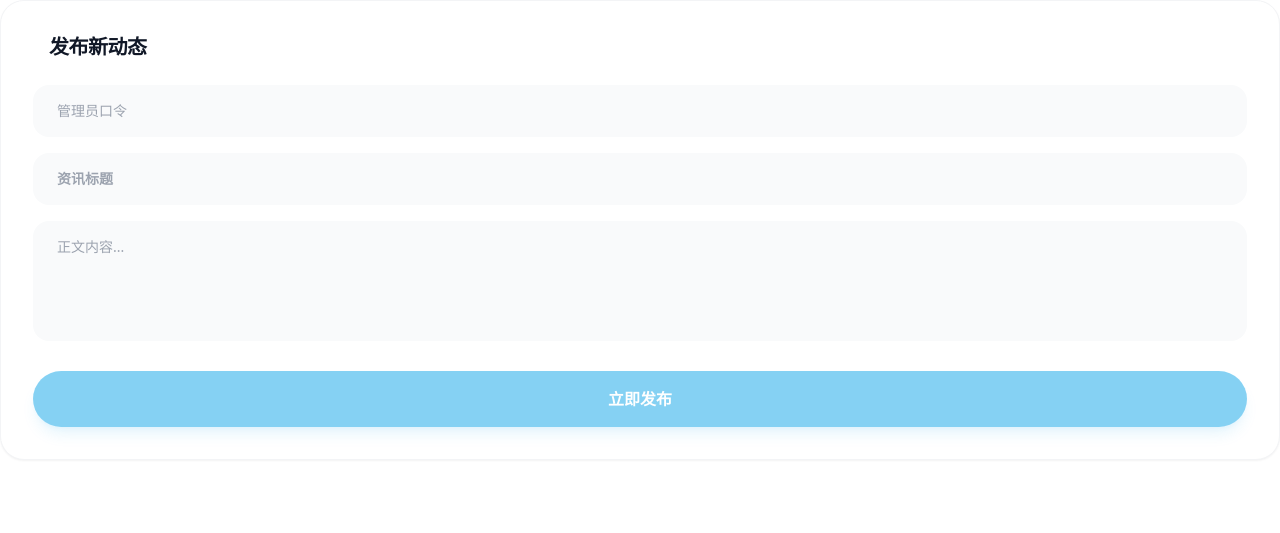
Test: AdminForm › handles fetch error
The width and height of the screenshot is (1280, 533).
Type "Title" into the field with placeholder "资讯标题" at (640, 179), box [33, 153, 1247, 205]
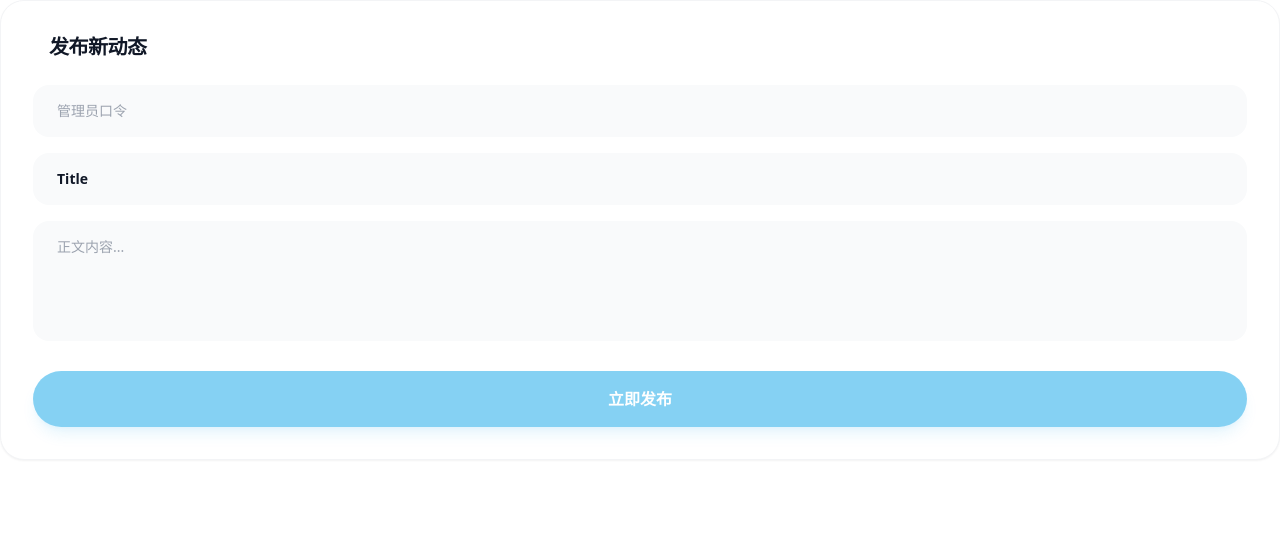
Type "Content" into the text box with placeholder "正文内容..." at (640, 281), box [33, 221, 1247, 341]
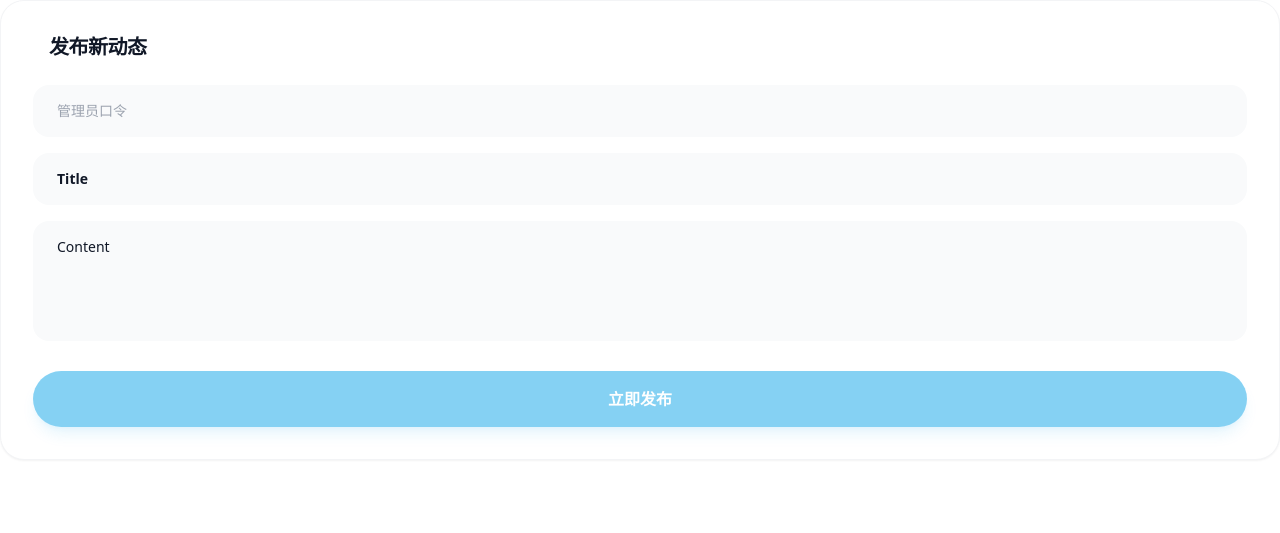
Type "secret" into the password field with placeholder "管理员口令" at (640, 111), box [33, 85, 1247, 137]
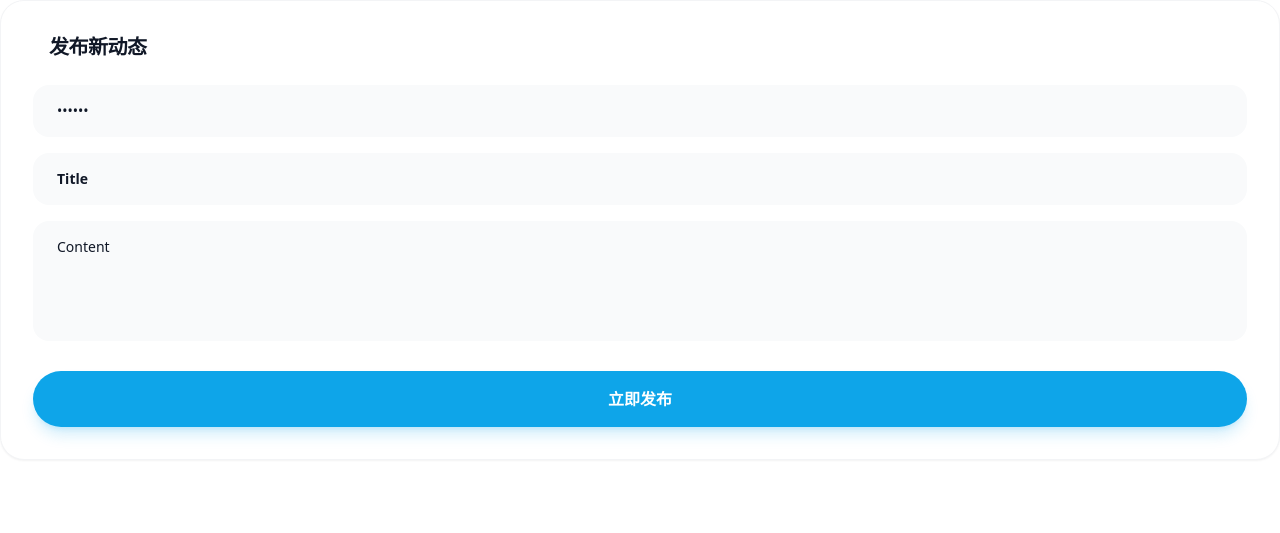
Click the button "立即发布" at (640, 399), box [33, 371, 1247, 427]
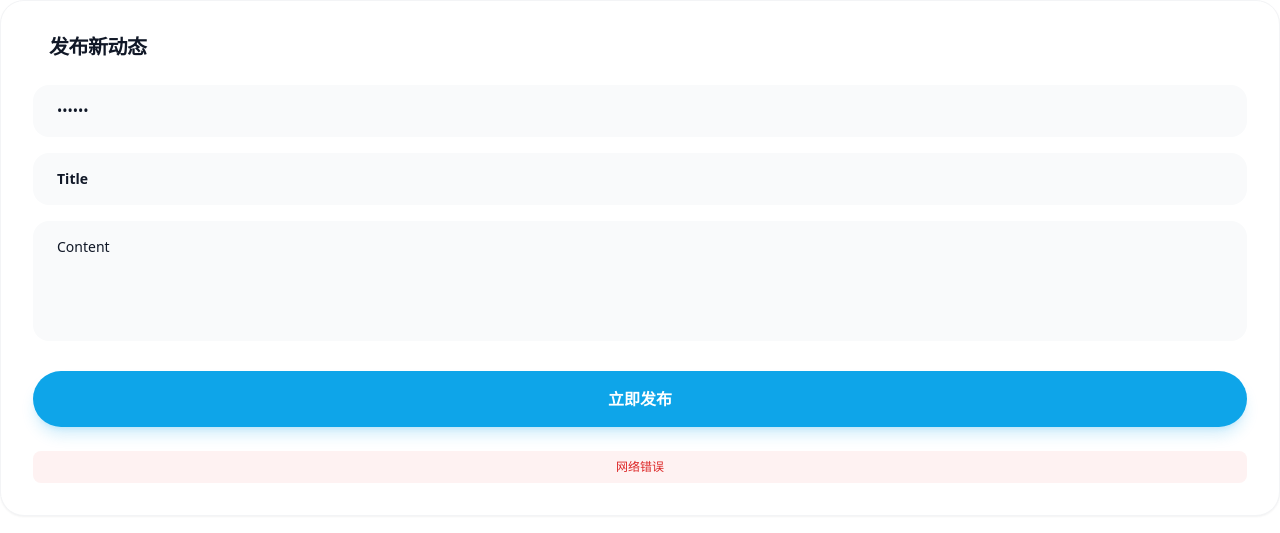
Expected: the text "网络错误" is shown, [33, 451, 1247, 483]
